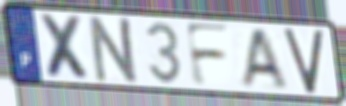3: (141, 20, 184, 86)
A: (237, 27, 290, 90)
F: (182, 21, 232, 89)
N: (88, 14, 142, 86)
V: (281, 27, 325, 96)
X: (37, 11, 96, 83)
